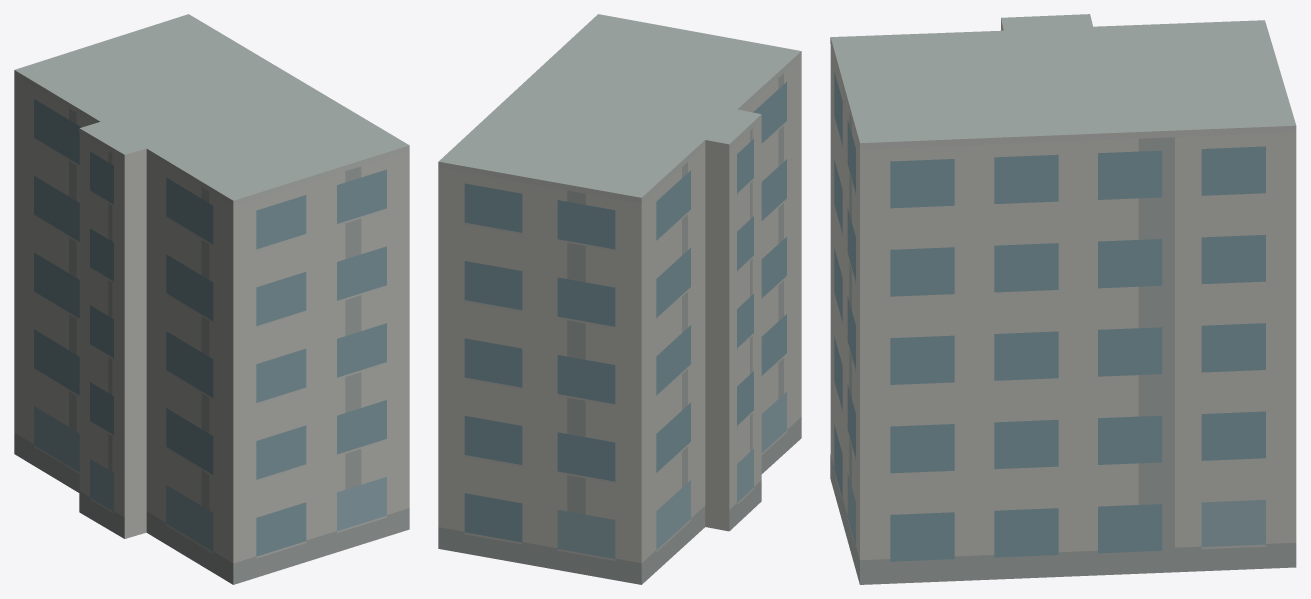
File: survey-upis-32720339.glb
3 renders of one model, left to right at view 1: azimuth 30°, elevation 25°; view 2: azimuth 150°, elevation 25°; view 3: azimuth 270°, elevation 25°, orthographic. The views are drawn at different scales.
Parts seen in each view (by area): view 1: survey-upis-32720339.tmp; view 2: survey-upis-32720339.tmp; view 3: survey-upis-32720339.tmp.
Part boxes in pixels (x1,y1,x2,y2): survey-upis-32720339.tmp: (14, 14, 409, 584); survey-upis-32720339.tmp: (438, 14, 801, 584); survey-upis-32720339.tmp: (830, 14, 1296, 584).
Size of the model in its own units: 10.04 by 16 by 15.3.
